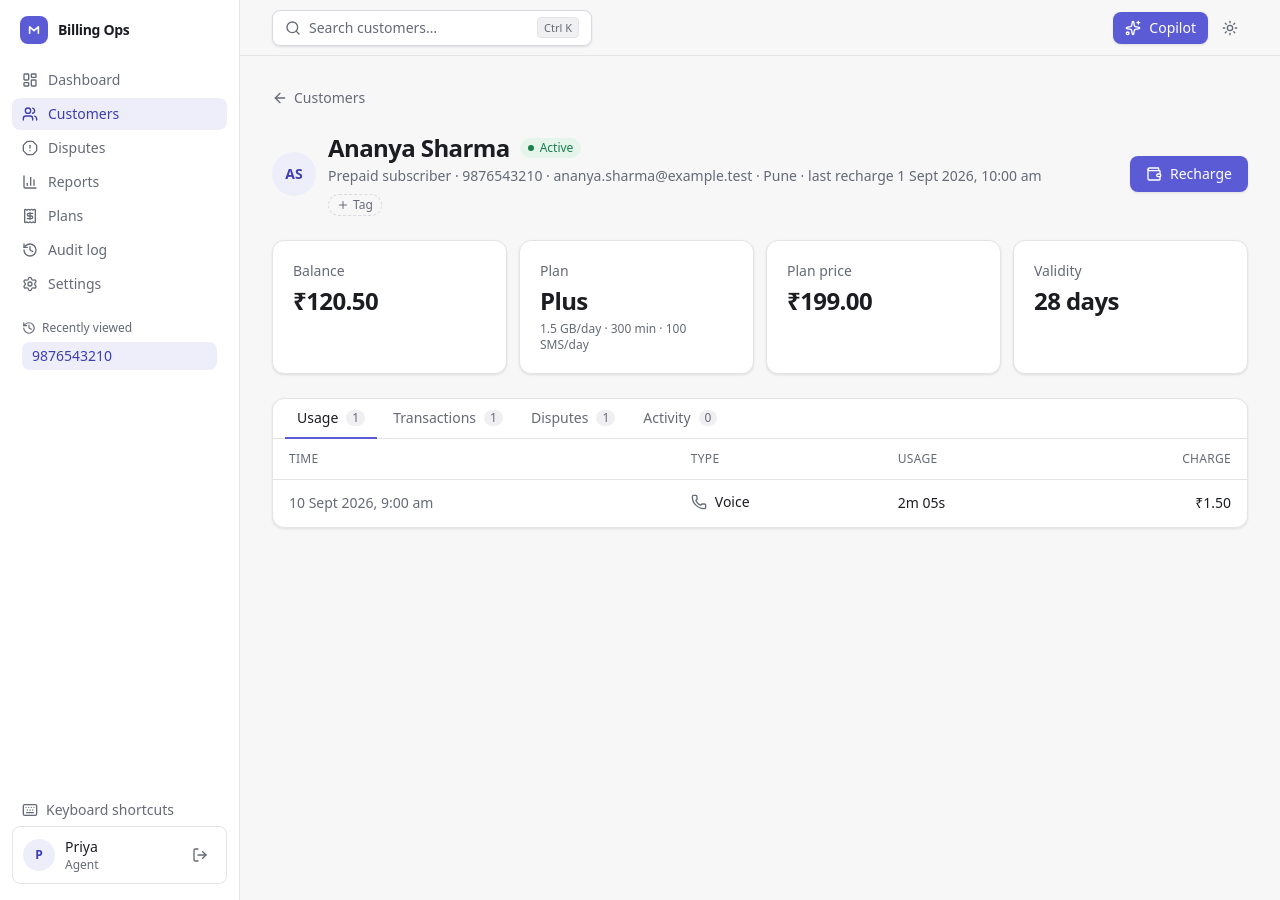
Copilot drawer › stops sharing the customer when the context chip is switched off
The image size is (1280, 900).
Click the button with test id "copilot-open".
click(1161, 28)  # box [1113,12,1208,44]
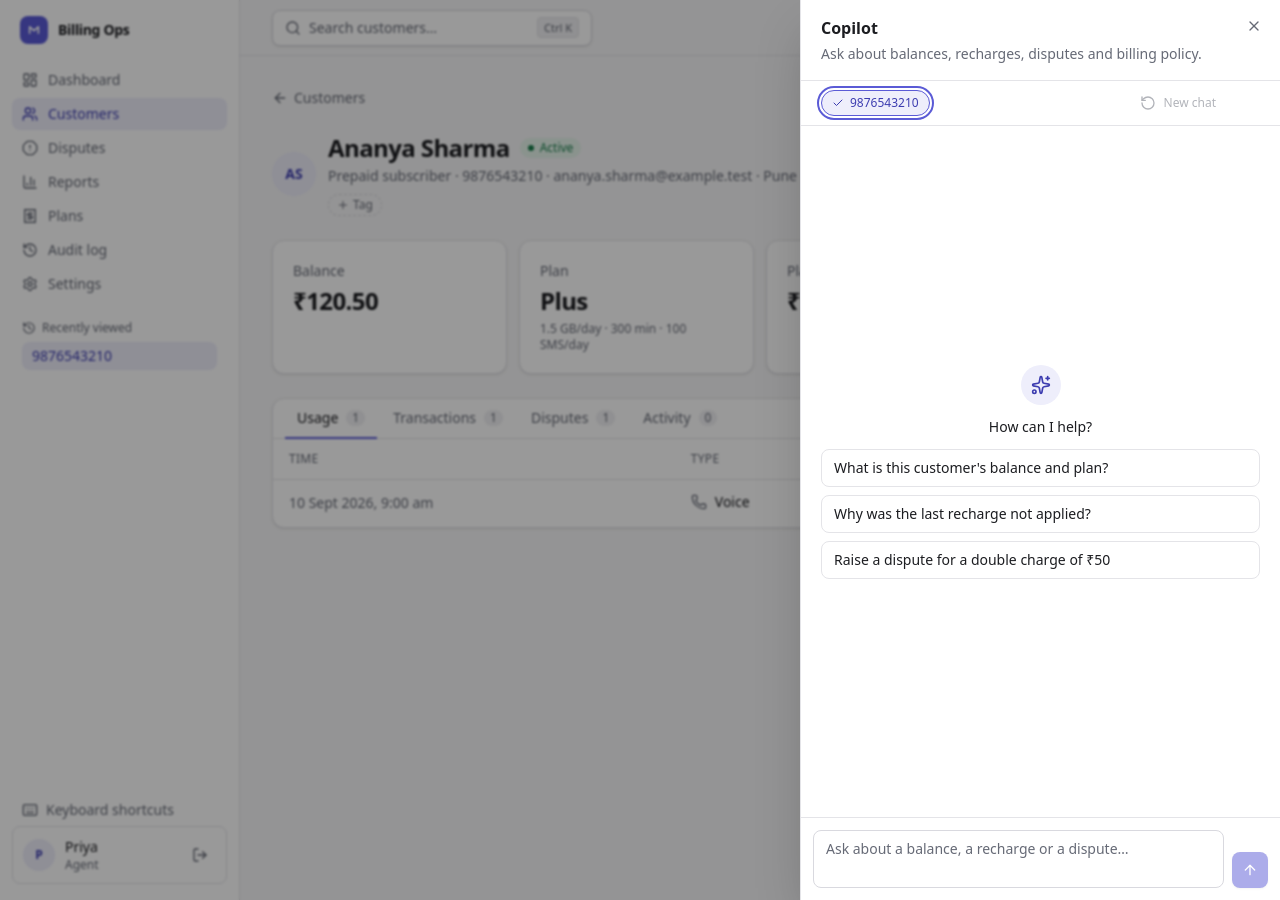
Click the button with test id "copilot-context".
click(875, 103)  # box [821,90,930,116]
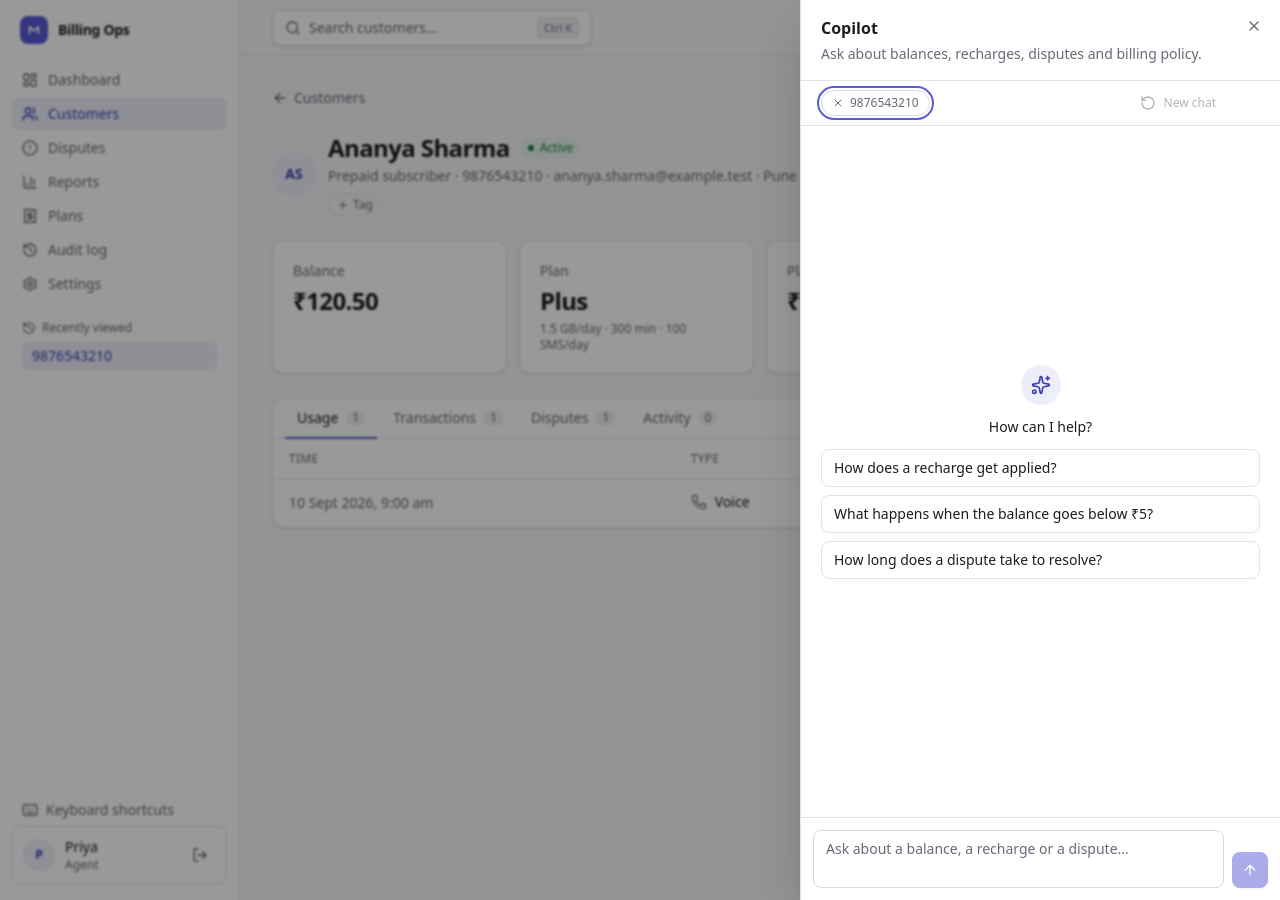
Click the button with test id "suggestion-0".
click(1040, 468)  # box [821,448,1260,486]
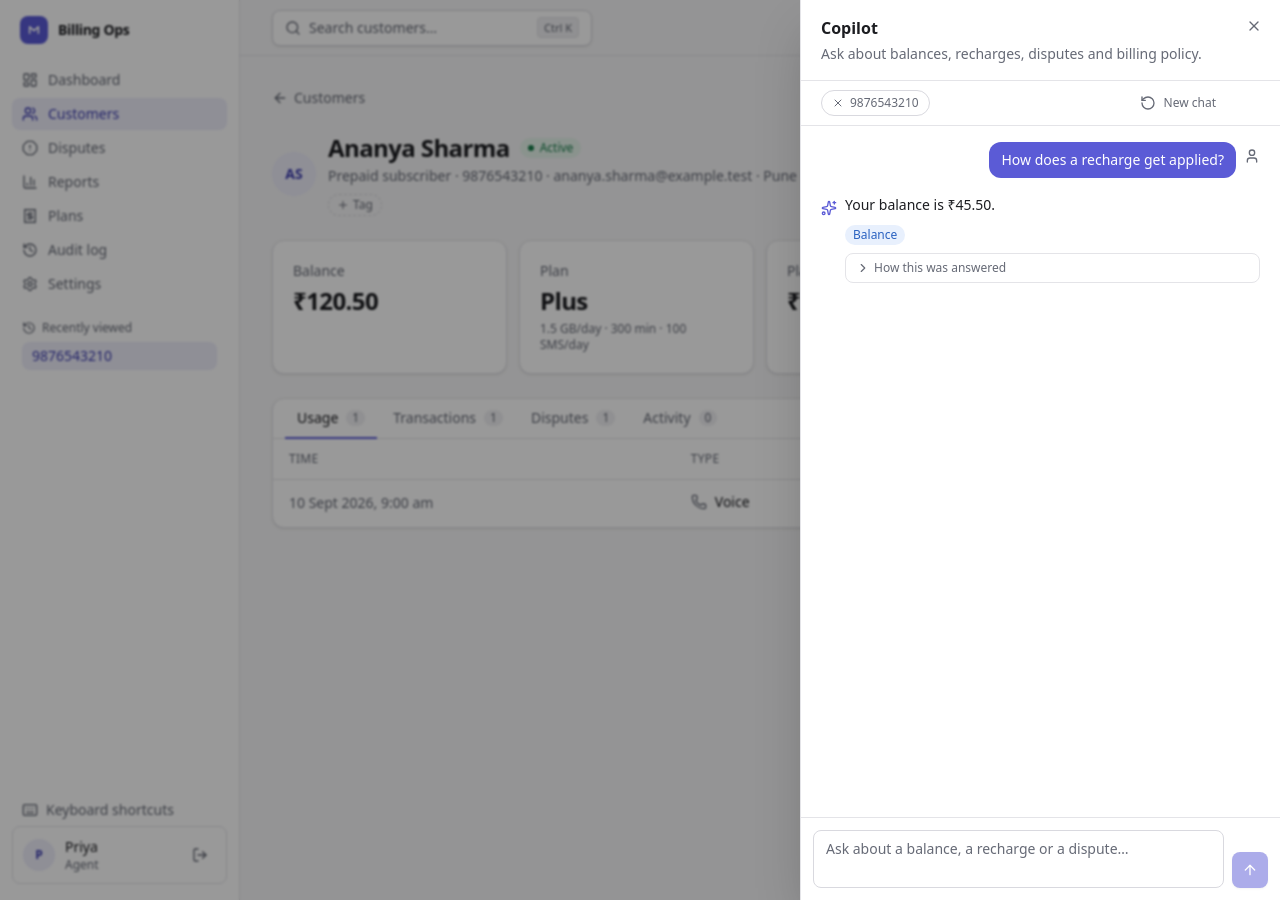
Result: the text "Your balance is ₹45.50." is shown at [845,195,995,214]
